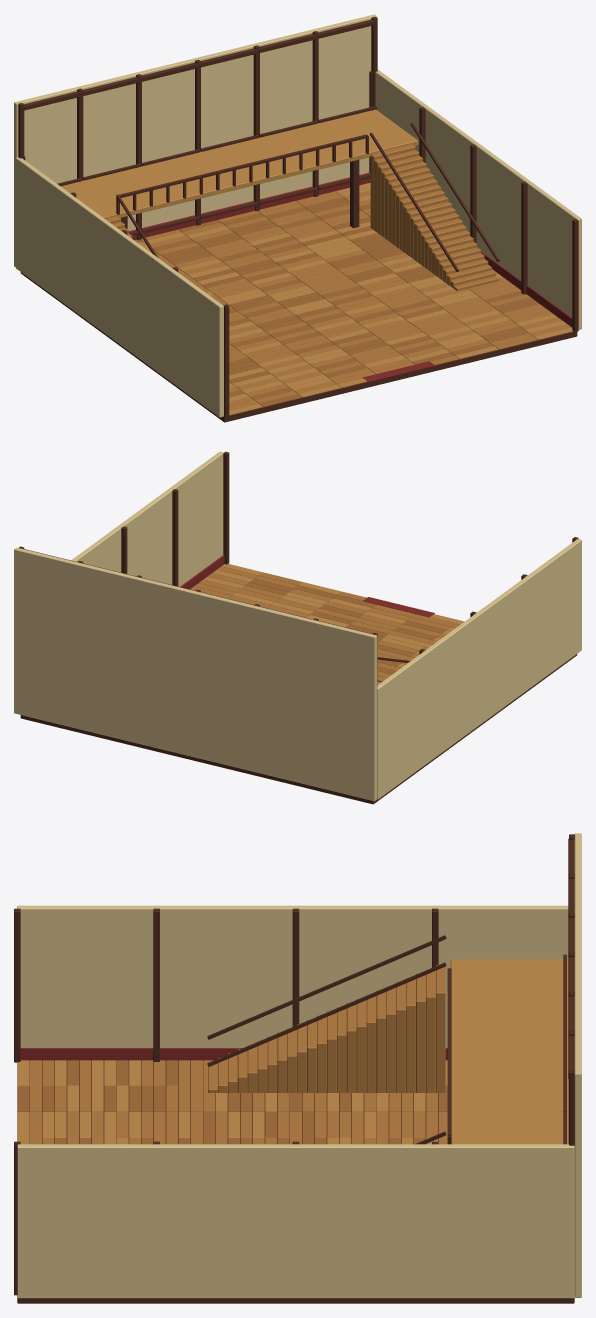
The model's file is SM_Guild_Architecture_DetailedV2.fbx.
The picture shows the model from 3 angles, top to bottom: view 1: azimuth 30°, elevation 25°; view 2: azimuth 150°, elevation 25°; view 3: azimuth 270°, elevation 25°; orthographic projection. The views are drawn at different scales.
Visible parts, largest first — view 1: RearWall, SideWall, SideWall.001, UpperGallery, FloorSupport, RearTie.001, RearSkirting, GalleryRailTop, WallSkirting.001, WallPost.005, WallPost.006, RearTimber.004 (+13 smaller); view 2: RearWall, SideWall, SideWall.001, FloorSupport, WallPost.005, WallPost.006; view 3: SideWall.001, SideWall, UpperGallery, FloorSupport, RearWall, WallSkirting, RearTie.001, Stair_-1_23, Stair_-1_22, Stair_-1_19, Stair_-1_21, Stair_-1_18 (+17 smaller).
Part boxes in pixels (box(x1,y1,x2,y2)): RearWall: box(14, 14, 377, 267); SideWall: box(16, 157, 223, 417); SideWall.001: box(375, 70, 581, 329); UpperGallery: box(61, 109, 418, 218); FloorSupport: box(20, 272, 577, 422); RearTie.001: box(22, 19, 375, 110); RearSkirting: box(128, 172, 370, 240); GalleryRailTop: box(119, 134, 367, 197); WallSkirting.001: box(481, 251, 572, 327); WallPost.005: box(572, 219, 578, 331); WallPost.006: box(521, 181, 527, 294); RearTimber.004: box(253, 45, 259, 211); RearWall: box(14, 547, 377, 801); SideWall: box(377, 539, 581, 799); SideWall.001: box(71, 451, 223, 586); FloorSupport: box(20, 654, 577, 804); WallPost.005: box(223, 451, 229, 564); WallPost.006: box(172, 489, 178, 586); SideWall.001: box(17, 1144, 574, 1298); SideWall: box(17, 905, 568, 1047); UpperGallery: box(450, 959, 568, 1144); FloorSupport: box(17, 1061, 574, 1303); RearWall: box(574, 833, 581, 1297); WallSkirting: box(20, 1048, 447, 1060); RearTie.001: box(568, 839, 574, 1078); Stair_-1_23: box(436, 965, 445, 1093); Stair_-1_22: box(426, 969, 435, 1092); Stair_-1_19: box(396, 981, 406, 1093); Stair_-1_21: box(416, 973, 425, 1092); Stair_-1_18: box(386, 986, 396, 1092).
Bounding box in the file's own units: 1848 × 1835 × 830.
